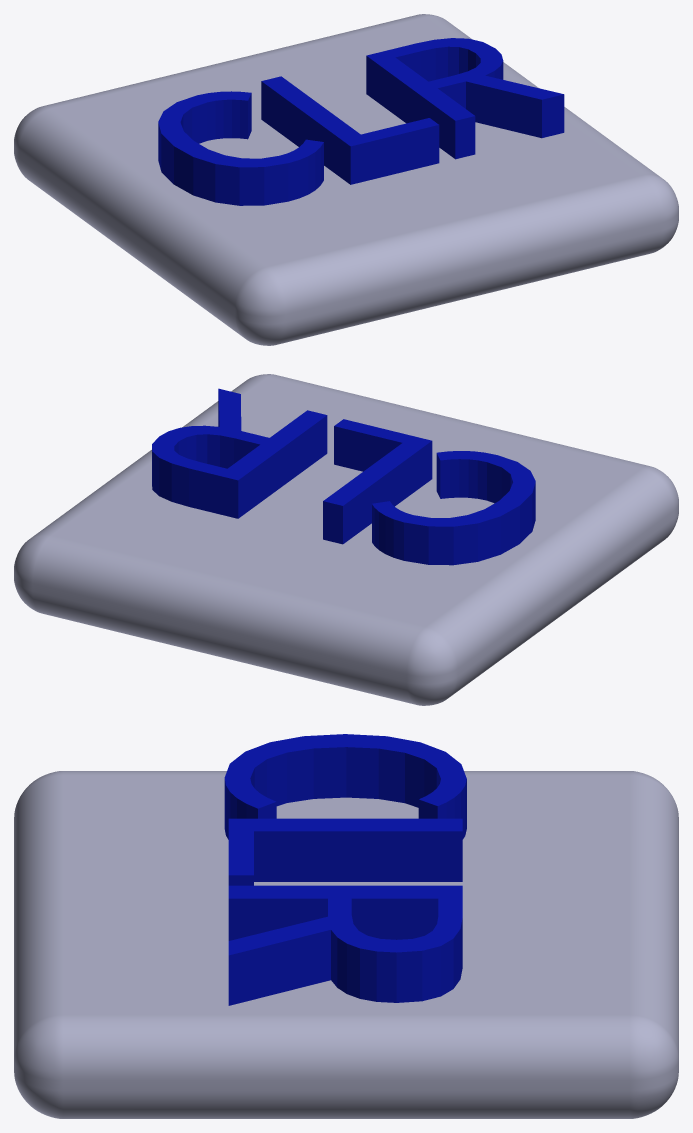
Rendered from buttonClear.glb.
3 renders of one model, top to bottom at view 1: azimuth 30°, elevation 25°; view 2: azimuth 150°, elevation 25°; view 3: azimuth 270°, elevation 25°, orthographic. The views are drawn at different scales.
Visible parts, largest first — view 1: Box, 3D Text - R, 3D Text - C, 3D Text - L; view 2: Box, 3D Text - R, 3D Text - C, 3D Text - L; view 3: Box, 3D Text - R, 3D Text - C, 3D Text - L.
Part boxes in pixels (left/top/right/bottom): Box: left=14, top=14, right=678, bottom=345; 3D Text - R: left=366, top=38, right=564, bottom=159; 3D Text - C: left=158, top=91, right=323, bottom=205; 3D Text - L: left=261, top=76, right=439, bottom=184; Box: left=14, top=374, right=678, bottom=705; 3D Text - R: left=152, top=388, right=327, bottom=518; 3D Text - C: left=372, top=451, right=535, bottom=565; 3D Text - L: left=323, top=419, right=432, bottom=544; Box: left=14, top=771, right=678, bottom=1118; 3D Text - R: left=228, top=885, right=462, bottom=1005; 3D Text - C: left=224, top=734, right=466, bottom=839; 3D Text - L: left=228, top=818, right=462, bottom=885.
Bounding box in the file's own units: 0.1 × 0.0249 × 0.1.
